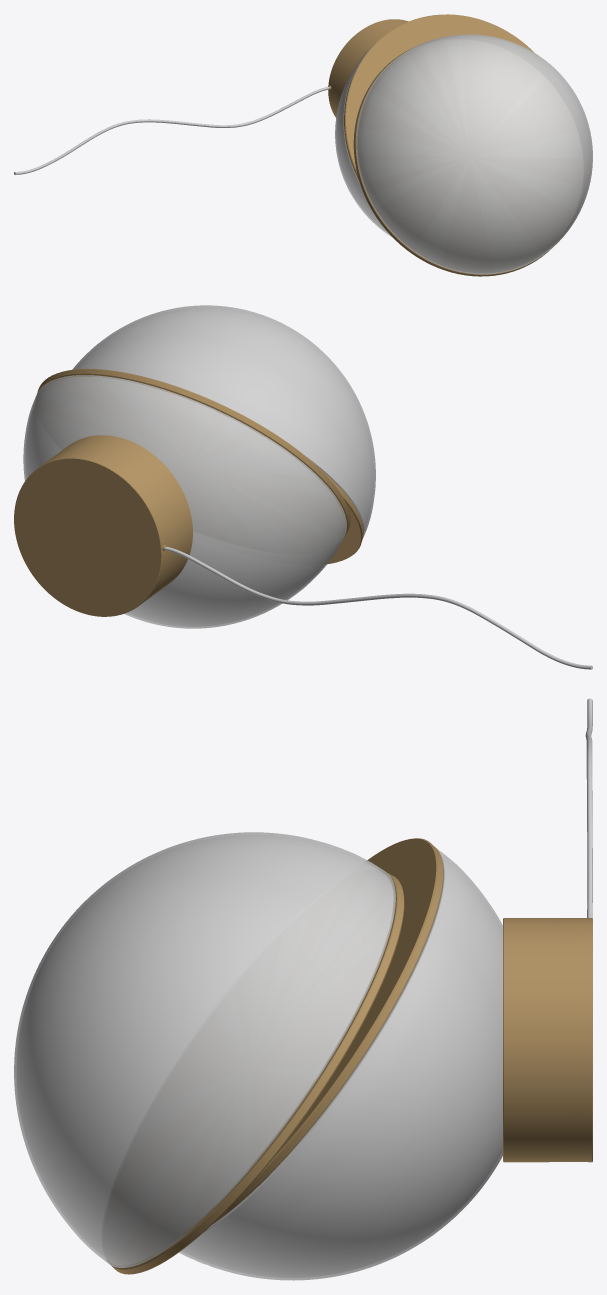
The model's file is Crescent_Lamp.obj.
3 views of the same model, one above another, from view 1: azimuth 30°, elevation 25°; view 2: azimuth 150°, elevation 25°; view 3: azimuth 270°, elevation 25° (orthographic). The views are drawn at different scales.
Visible parts, largest first — view 1: Lee_Broom_Crescent_Table_Lamp_mat1; view 2: Lee_Broom_Crescent_Table_Lamp_mat1; view 3: Lee_Broom_Crescent_Table_Lamp_mat1.
Part boxes in pixels (<box>): Lee_Broom_Crescent_Table_Lamp_mat1: <box>14,14,592,276</box>; Lee_Broom_Crescent_Table_Lamp_mat1: <box>14,305,592,669</box>; Lee_Broom_Crescent_Table_Lamp_mat1: <box>14,698,592,1280</box>.
Bounding box in the file's own units: 83.5 × 34.47 × 44.98.
